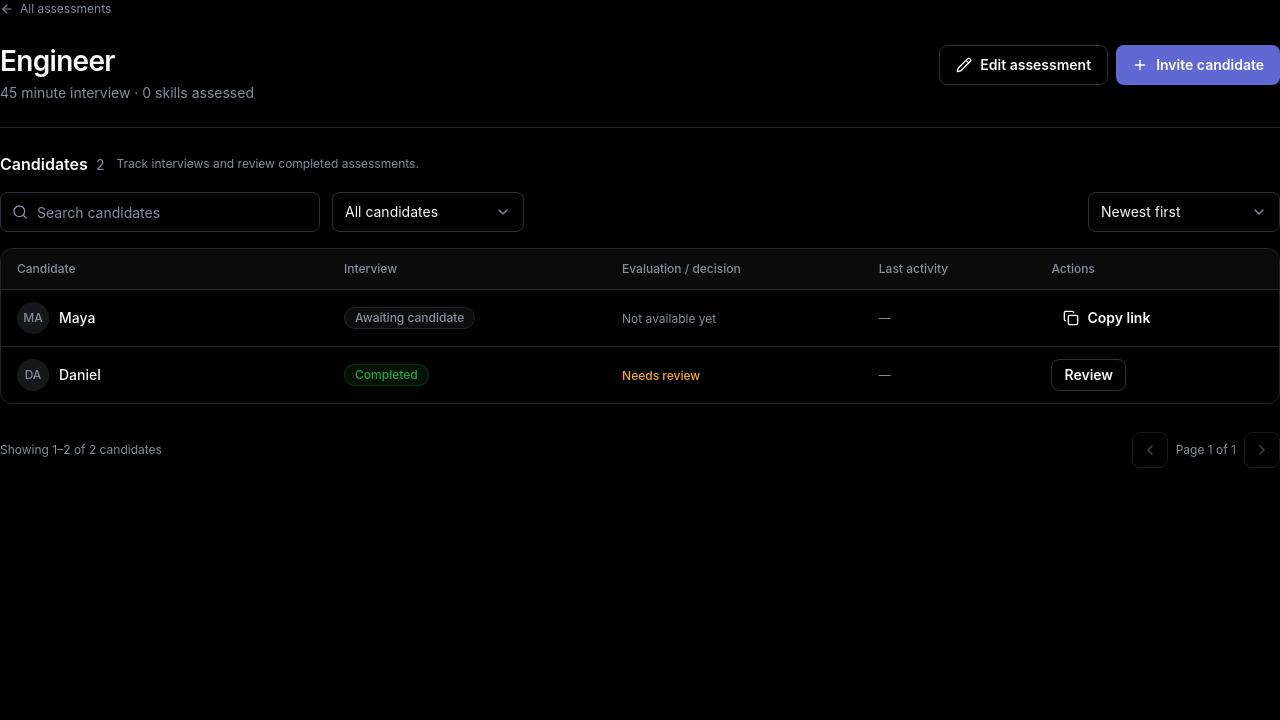
Candidate workspace › keeps the candidate name on invitation failure, then creates an invitation on retry
Expected: the text "Daniel" is shown, x1=59 y1=365 x2=101 y2=385
Click the button "Invite candidate".
click(1198, 65)  # box x1=1116 y1=45 x2=1279 y2=85
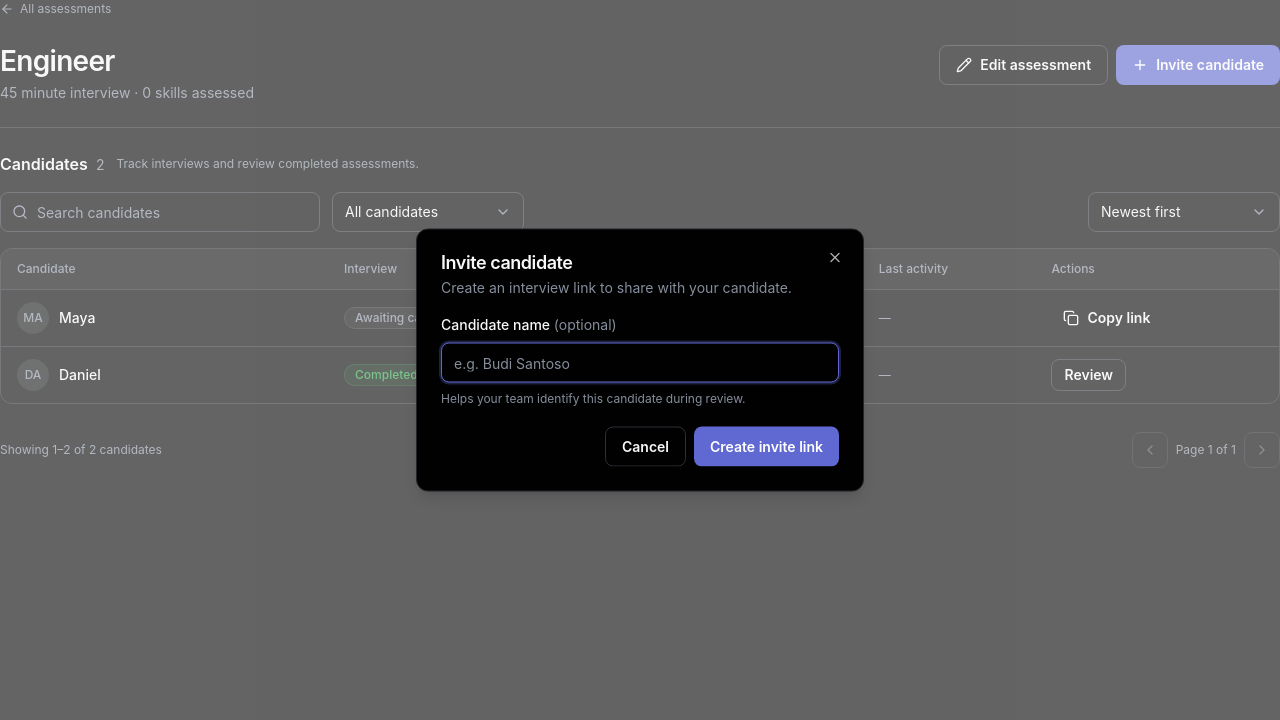
Type "Sarah" into the field labelled "Candidate name (optional)".
click(640, 362); type("Sarah")  # box x1=441 y1=342 x2=839 y2=382
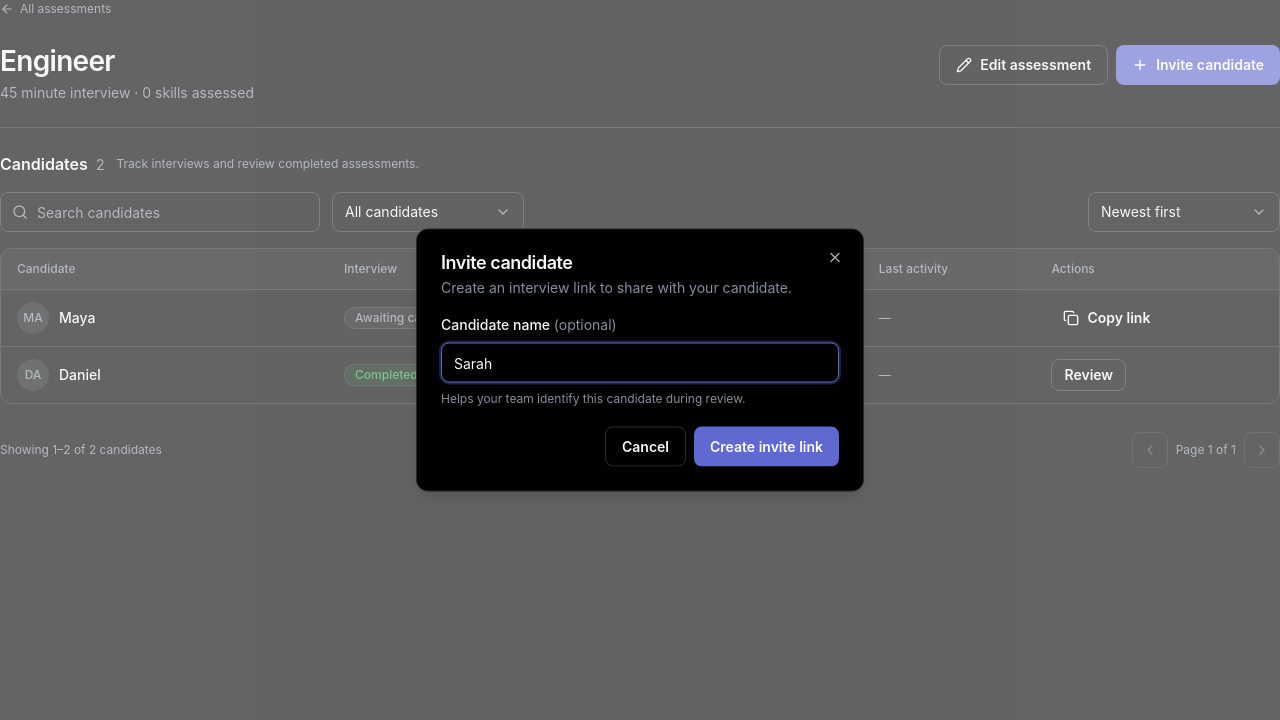
Click the button "Create invite link".
click(766, 446)  # box x1=694 y1=426 x2=839 y2=466
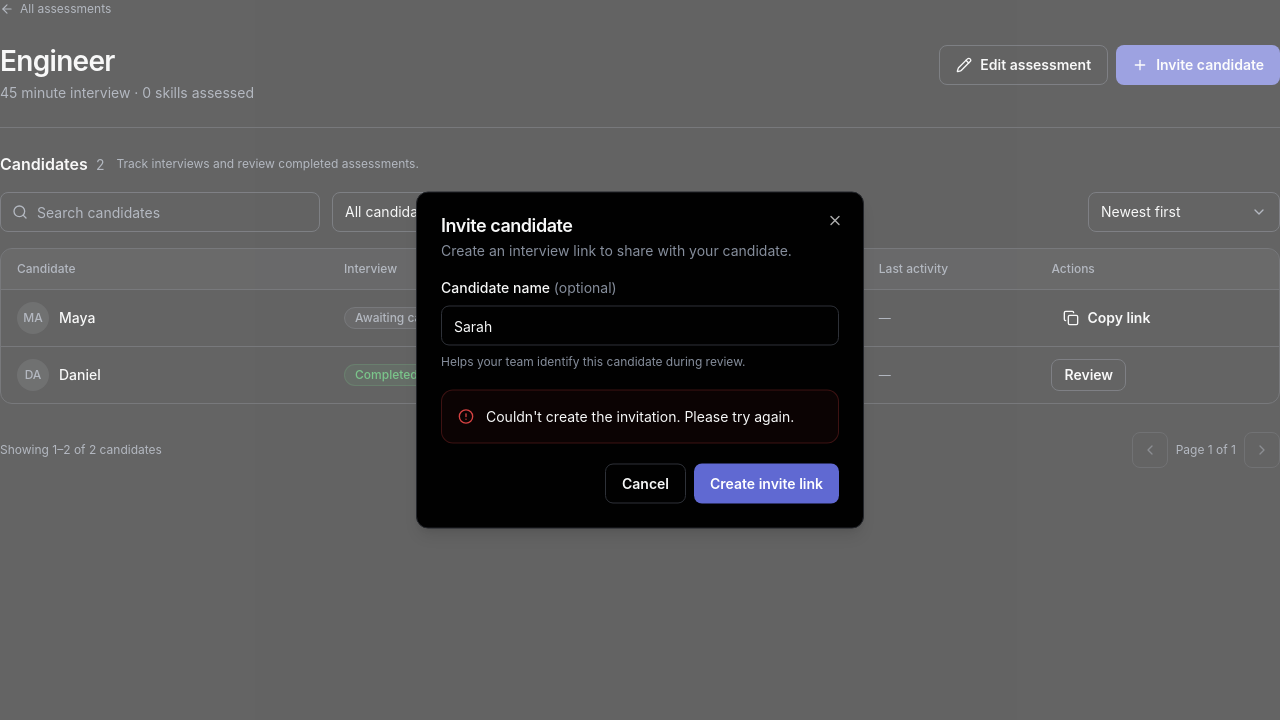
Now the message shows "Couldn't create", box x1=486 y1=408 x2=794 y2=424
Click the button "Create invite link".
click(766, 484)  # box x1=694 y1=464 x2=839 y2=504
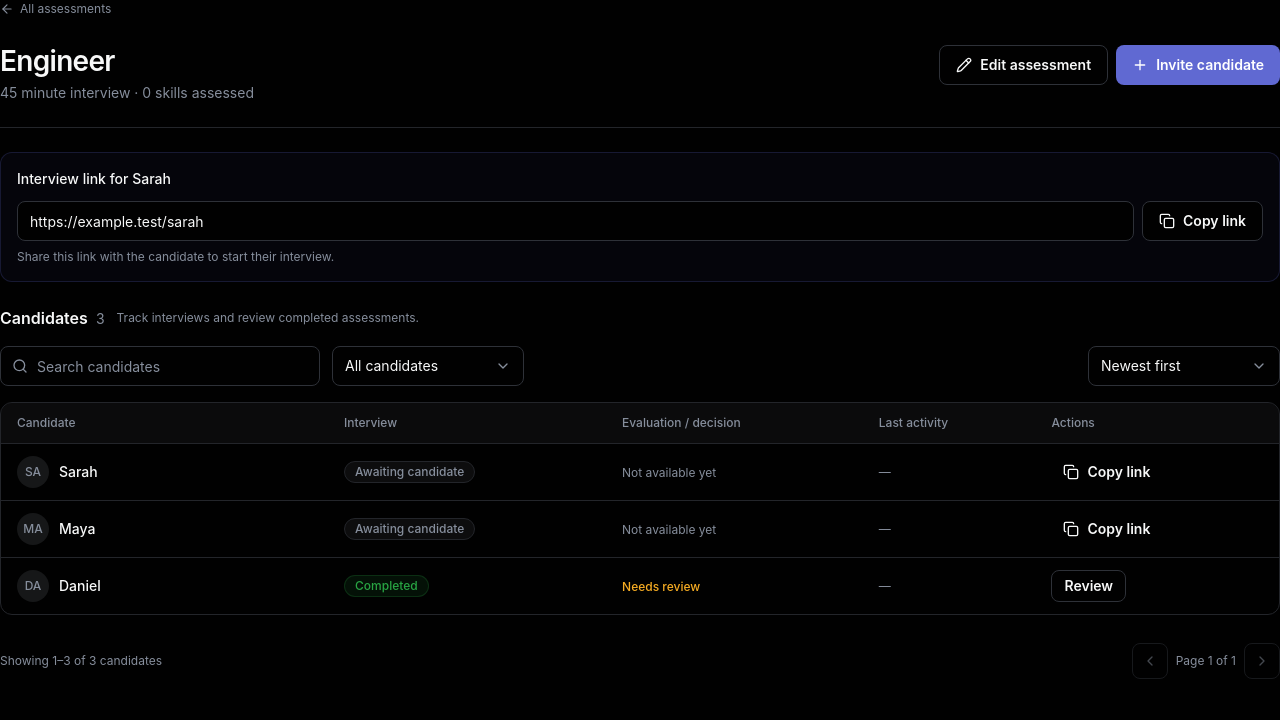
Now the dialog is gone
Now the field named "Candidate invitation link" holds "https://example.test/sarah", box x1=17 y1=201 x2=1134 y2=241
